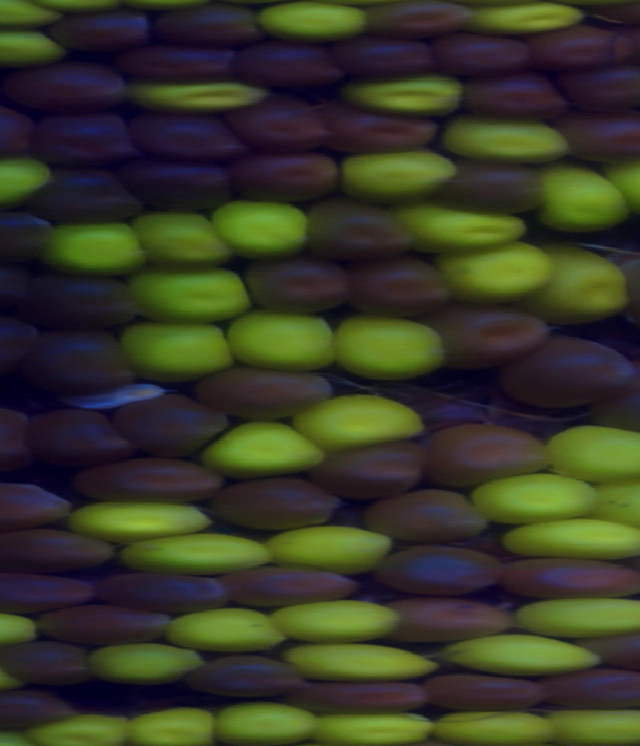fluorescent: (539, 239, 631, 334), (280, 639, 442, 690), (298, 392, 425, 456), (115, 315, 237, 381), (442, 629, 599, 680), (330, 316, 448, 382), (505, 513, 640, 570), (232, 308, 344, 372), (125, 266, 256, 320), (431, 239, 557, 295), (401, 200, 529, 254), (334, 148, 459, 203), (470, 470, 601, 522), (256, 524, 397, 572), (211, 194, 313, 260), (122, 528, 270, 573), (535, 162, 625, 233), (44, 217, 145, 280), (71, 499, 217, 542), (129, 207, 233, 267), (203, 421, 320, 473), (440, 118, 565, 166), (273, 602, 403, 648), (244, 1, 371, 45), (124, 75, 266, 114), (92, 639, 213, 684), (350, 76, 467, 121), (210, 699, 322, 746), (544, 428, 640, 480), (167, 608, 285, 650), (515, 595, 640, 633), (541, 701, 640, 746), (317, 708, 434, 746), (432, 705, 539, 746), (582, 472, 640, 541), (463, 4, 582, 33), (128, 705, 211, 746), (33, 712, 129, 746), (0, 158, 53, 211), (0, 29, 69, 67), (0, 1, 67, 29), (0, 610, 40, 649)
nonfluorescent: (496, 328, 638, 414), (421, 300, 552, 371), (492, 552, 640, 607), (19, 325, 139, 391), (17, 267, 143, 329), (82, 454, 229, 506), (226, 146, 347, 207), (421, 421, 546, 480), (122, 153, 244, 213), (221, 470, 343, 530), (434, 155, 547, 218), (305, 199, 416, 262), (370, 542, 498, 596), (191, 364, 341, 410), (286, 669, 432, 716), (214, 560, 368, 604), (93, 566, 233, 613), (379, 597, 519, 644), (31, 110, 146, 167), (312, 443, 432, 497), (534, 24, 637, 84), (113, 396, 222, 452), (417, 675, 555, 719), (223, 97, 333, 151), (33, 169, 141, 224), (348, 252, 445, 313), (325, 100, 443, 150), (358, 493, 485, 539), (195, 652, 309, 702), (0, 67, 129, 111), (238, 262, 353, 310), (26, 409, 134, 460), (132, 111, 248, 158), (41, 601, 174, 641), (0, 525, 120, 569), (238, 41, 345, 90), (123, 40, 240, 82), (434, 33, 536, 81), (43, 14, 158, 56), (0, 640, 94, 688), (152, 10, 263, 50), (334, 36, 438, 77), (464, 75, 564, 117), (0, 567, 93, 612), (566, 112, 640, 166), (0, 479, 76, 529), (540, 672, 640, 709), (558, 65, 640, 107), (0, 688, 73, 726), (361, 1, 471, 26), (0, 213, 56, 261), (0, 315, 40, 381), (610, 366, 640, 444), (0, 254, 35, 315), (0, 412, 36, 471), (0, 106, 40, 157), (592, 634, 640, 668), (601, 1, 640, 35)
